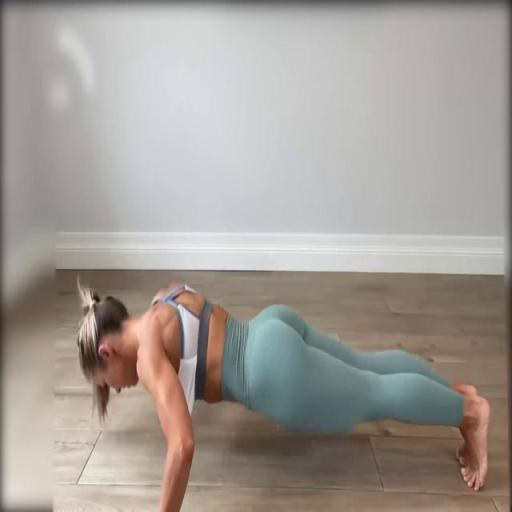Normal_BrenchPress: (76, 282, 492, 509)
